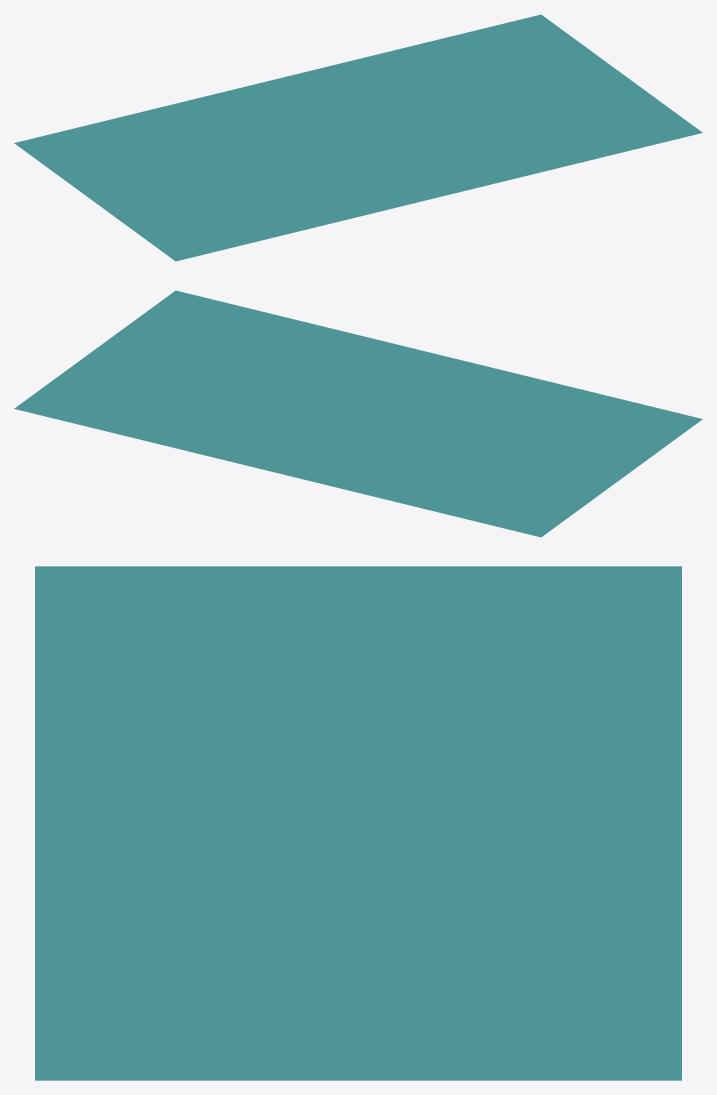
The model's file is Water_Upper.fbx.
3 renders of one model, top to bottom at view 1: azimuth 30°, elevation 25°; view 2: azimuth 150°, elevation 25°; view 3: azimuth 270°, elevation 25°, orthographic. The views are drawn at different scales.
Visible parts, largest first — view 1: Water_Upper_EXP; view 2: Water_Upper_EXP; view 3: Water_Upper_EXP.
Part boxes in pixels (bbox=[...]): Water_Upper_EXP: bbox=[14, 14, 702, 261]; Water_Upper_EXP: bbox=[14, 290, 702, 537]; Water_Upper_EXP: bbox=[35, 566, 681, 1080].
Size of the model in its own units: 6.4 by 0 by 3.4.
